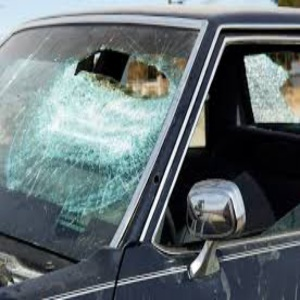front_windshield_glass: (1, 34, 171, 220)
